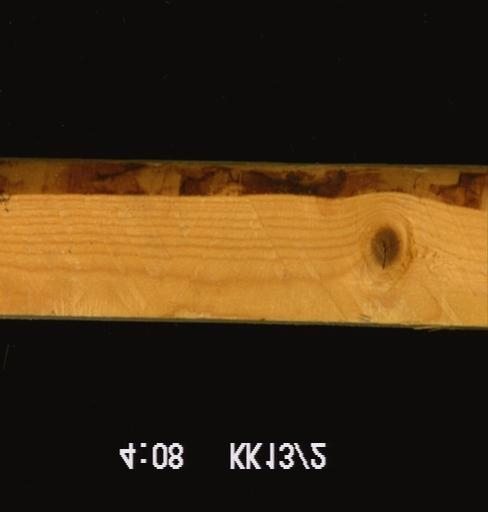sound_knot: (367, 223, 400, 270)
wave: (0, 157, 487, 214)
